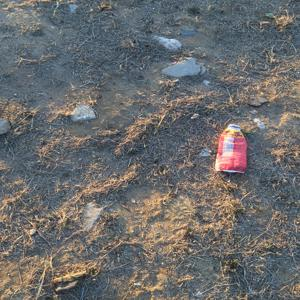plastic bottle: (217, 114, 254, 183)
